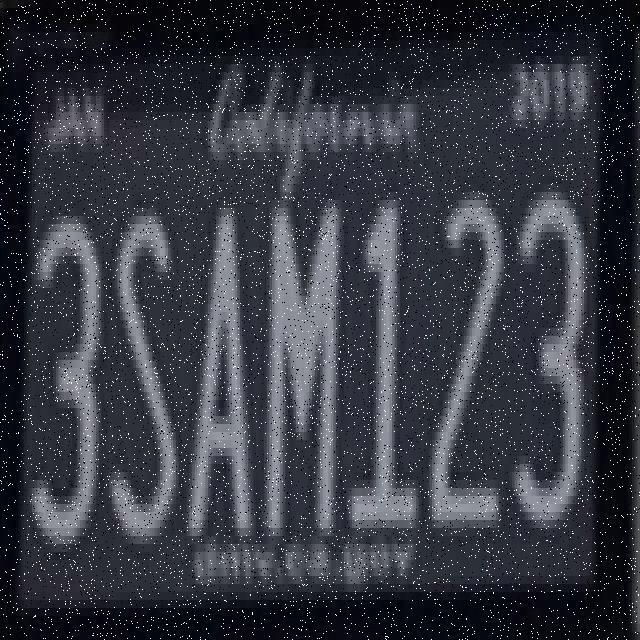LicensePlate: (13, 31, 602, 603)
